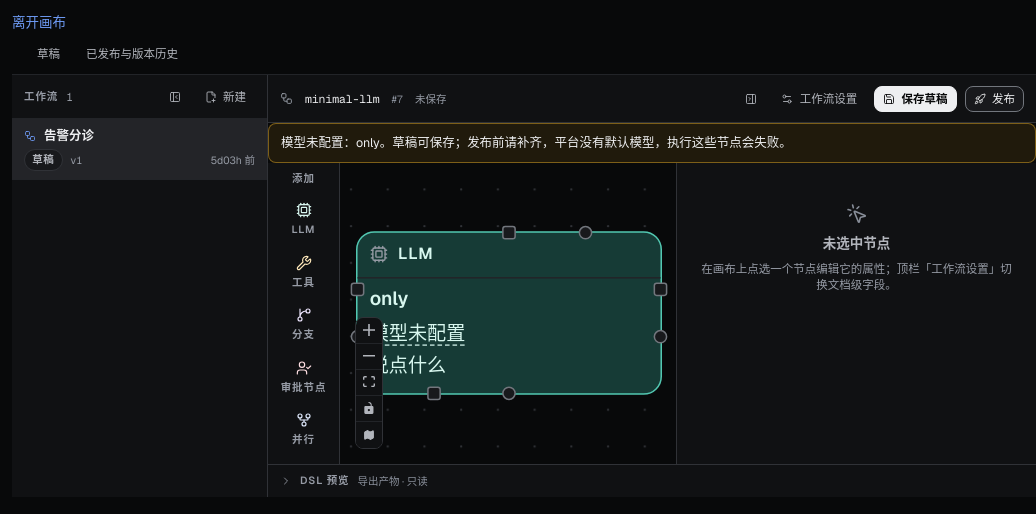
Test: WorkflowsRoute(发布成功反馈,F04) › 点发布:编辑器卸载后成功条仍可见,带「查看已发布」出口;深链不复活编辑器
Click the button with test id "editor-publish" at [994, 99], box [965, 86, 1024, 112]
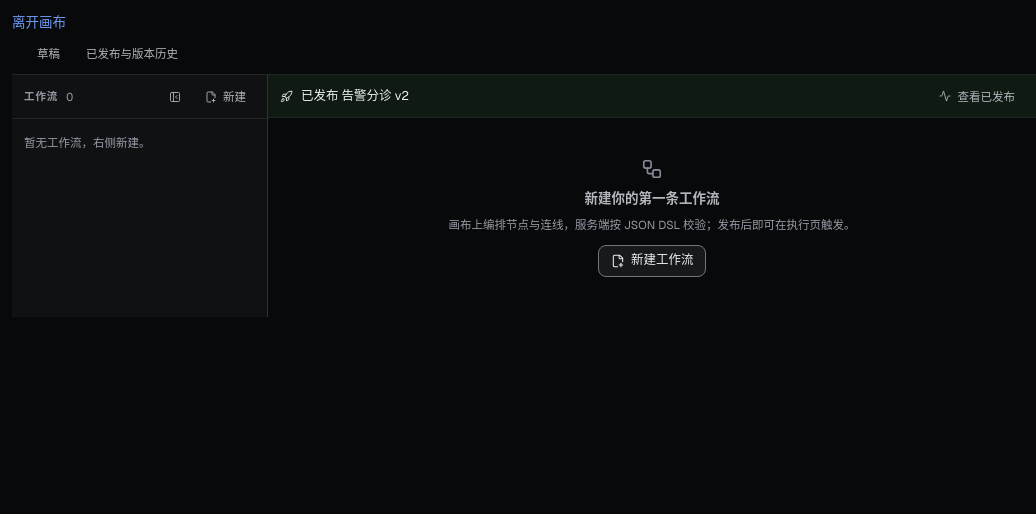
Result: the button with test id "view-published" is shown
Result: the element with test id "editor" is gone
Result: the message with test id "workflow-flash" shows "已发布 告警分诊 v2" at [301, 87, 409, 104]
# 「查看已发布」进入工作流版本浏览，URL 可刷新恢复该视图。
Click the button with test id "view-published" at [977, 96], box [930, 83, 1024, 109]
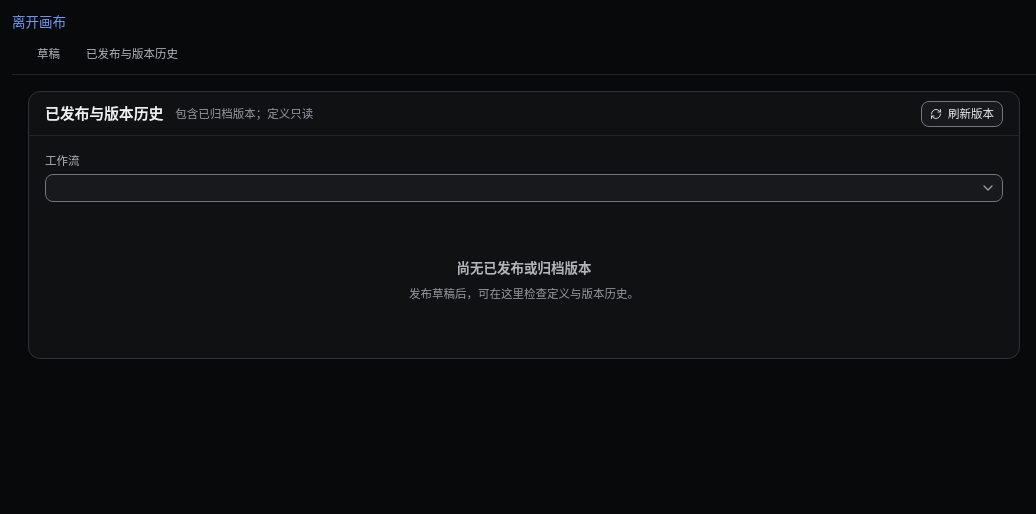
Result: the heading "已发布与版本历史" is shown at [45, 103, 163, 125]
